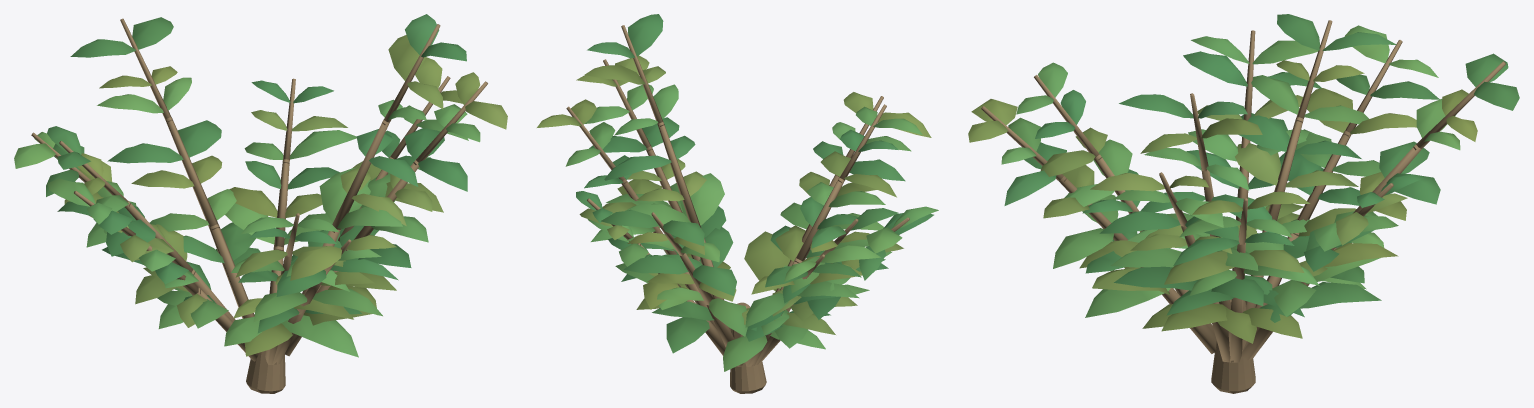
The model's file is bush.011d38e5.glb.
3 views of the same model, side by side, from view 1: azimuth 30°, elevation 25°; view 2: azimuth 150°, elevation 25°; view 3: azimuth 270°, elevation 25° (orthographic). The views are drawn at different scales.
Visible parts, largest first — view 1: bush; view 2: bush; view 3: bush.
Boxes of the visible parts, x1,y1,x2,y2 form: bush: [14, 14, 507, 393]; bush: [537, 14, 938, 393]; bush: [968, 14, 1519, 393].
Size of the model in its own units: 1.22 by 1.01 by 1.34.
